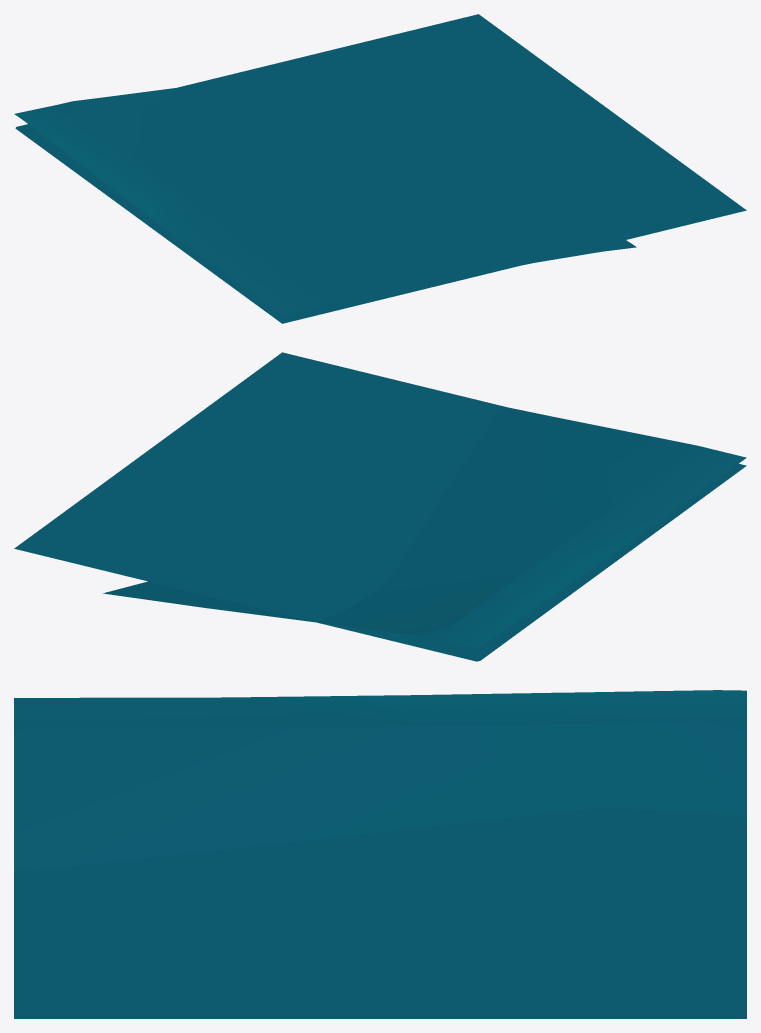
3 views of the same model, one above another, from view 1: azimuth 30°, elevation 25°; view 2: azimuth 150°, elevation 25°; view 3: azimuth 270°, elevation 25° (orthographic). The views are drawn at different scales.
Parts seen in each view (by area): view 1: G:\FFXIV-MapTools\exports\s1f3\bg\ffxiv\sea_s1\fld\s1f3\bgpl (×2); view 2: G:\FFXIV-MapTools\exports\s1f3\bg\ffxiv\sea_s1\fld\s1f3\bgpl (×2); view 3: G:\FFXIV-MapTools\exports\s1f3\bg\ffxiv\sea_s1\fld\s1f3\bgpl (×2).
Boxes of the visible parts, left/top/right/bottom form: G:\FFXIV-MapTools\exports\s1f3\bg\ffxiv\sea_s1\fld\s1f3\bgpl (×2): left=14, top=14, right=746, bottom=323; G:\FFXIV-MapTools\exports\s1f3\bg\ffxiv\sea_s1\fld\s1f3\bgpl (×2): left=14, top=352, right=746, bottom=661; G:\FFXIV-MapTools\exports\s1f3\bg\ffxiv\sea_s1\fld\s1f3\bgpl (×2): left=14, top=690, right=746, bottom=1018.
Bounding box in the file's own units: 128 × 9.77 × 128.
